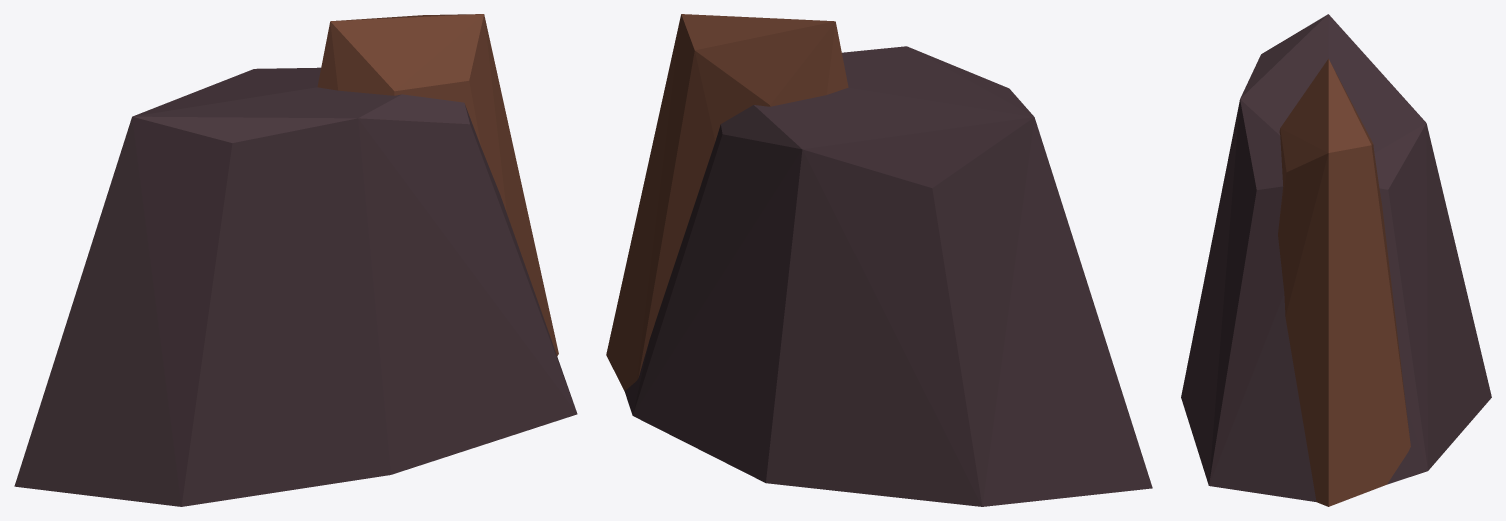
File: RidgeA.fbx
The picture shows the model from 3 angles, left to right: view 1: azimuth 30°, elevation 25°; view 2: azimuth 150°, elevation 25°; view 3: azimuth 270°, elevation 25°; orthographic projection. The views are drawn at different scales.
Visible parts, largest first — view 1: SM_RidgeA_MAT_Rock, SM_RidgeA_MAT_RockRust; view 2: SM_RidgeA_MAT_Rock, SM_RidgeA_MAT_RockRust; view 3: SM_RidgeA_MAT_Rock, SM_RidgeA_MAT_RockRust.
Part boxes in pixels (x1,y1,x2,y2): SM_RidgeA_MAT_Rock: (14, 67, 577, 506); SM_RidgeA_MAT_RockRust: (317, 14, 558, 356); SM_RidgeA_MAT_Rock: (624, 46, 1152, 506); SM_RidgeA_MAT_RockRust: (606, 14, 848, 390); SM_RidgeA_MAT_Rock: (1181, 14, 1491, 501); SM_RidgeA_MAT_RockRust: (1278, 59, 1410, 506).
Bounding box in the file's own units: 19.09 × 13.01 × 10.52.
